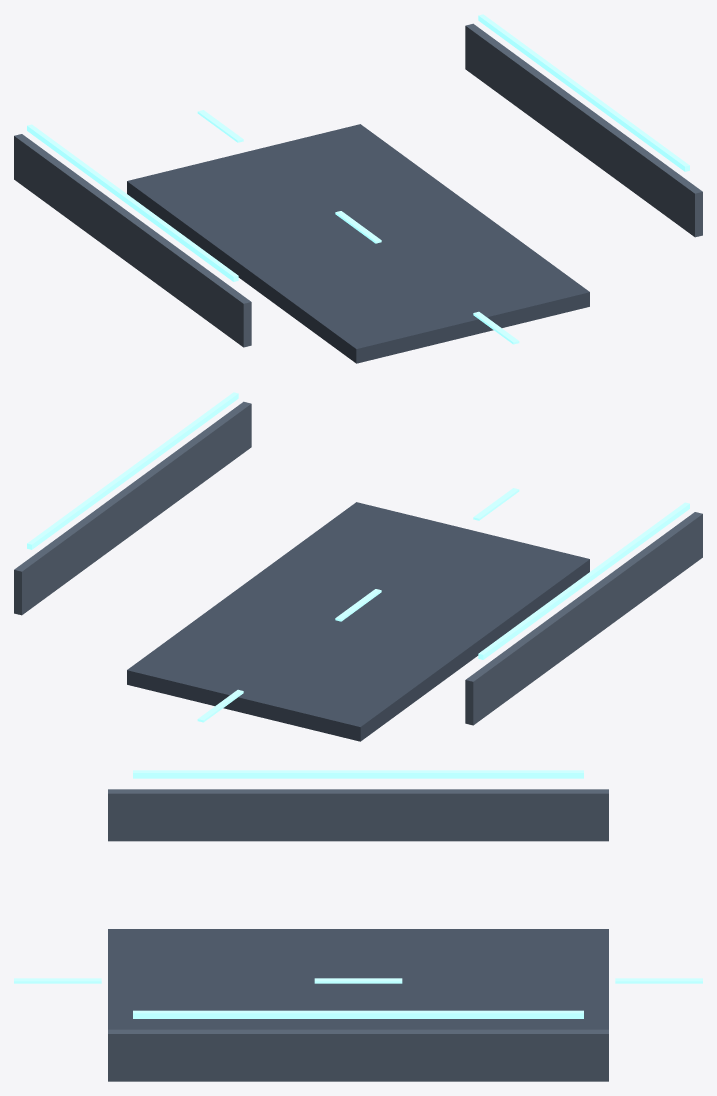
File: track_straight.glb
3 renders of one model, top to bottom at view 1: azimuth 30°, elevation 25°; view 2: azimuth 150°, elevation 25°; view 3: azimuth 270°, elevation 25°, orthographic. The views are drawn at different scales.
Parts seen in each view (by area): view 1: Track_Straight_Deck, Track_Straight_Rail_R, Track_Straight_Rail_L, Track_Straight_Neon_R, Track_Straight_Neon_L; view 2: Track_Straight_Deck, Track_Straight_Rail_R, Track_Straight_Rail_L, Track_Straight_Neon_R, Track_Straight_Neon_L; view 3: Track_Straight_Deck, Track_Straight_Rail_L, Track_Straight_Rail_R, Track_Straight_Neon_L, Track_Straight_Neon_R, Track_Straight, Track_Straight_Mark_-1.2, Track_Straight_Mark_1.2.
Boxes of the visible parts, x1,y1,x2,y2 form: Track_Straight_Deck: (127, 124, 589, 363); Track_Straight_Rail_R: (465, 23, 702, 237); Track_Straight_Rail_L: (14, 134, 251, 347); Track_Straight_Neon_R: (478, 14, 689, 171); Track_Straight_Neon_L: (27, 124, 238, 281); Track_Straight_Deck: (127, 502, 589, 741); Track_Straight_Rail_R: (14, 401, 251, 615); Track_Straight_Rail_L: (465, 512, 702, 725); Track_Straight_Neon_R: (27, 392, 238, 549); Track_Straight_Neon_L: (478, 502, 689, 659); Track_Straight_Deck: (108, 929, 608, 1029); Track_Straight_Rail_L: (108, 789, 608, 841); Track_Straight_Rail_R: (108, 1029, 608, 1081); Track_Straight_Neon_L: (133, 770, 583, 778); Track_Straight_Neon_R: (133, 1010, 583, 1018); Track_Straight: (314, 978, 402, 983); Track_Straight_Mark_-1.2: (14, 978, 101, 983); Track_Straight_Mark_1.2: (615, 978, 702, 983).
Size of the model in its own units: 2.31 by 0.5075 by 2.75.
